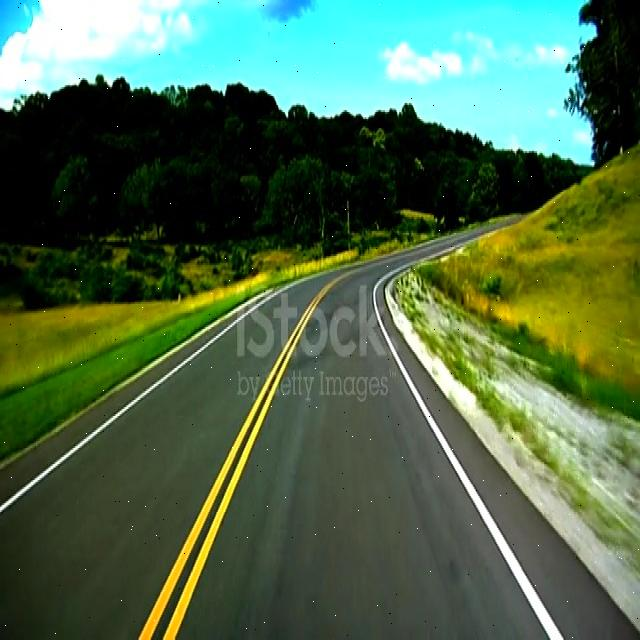lane: (140, 276, 342, 636), (377, 310, 561, 634), (1, 380, 161, 511)
road: (3, 251, 637, 636)
